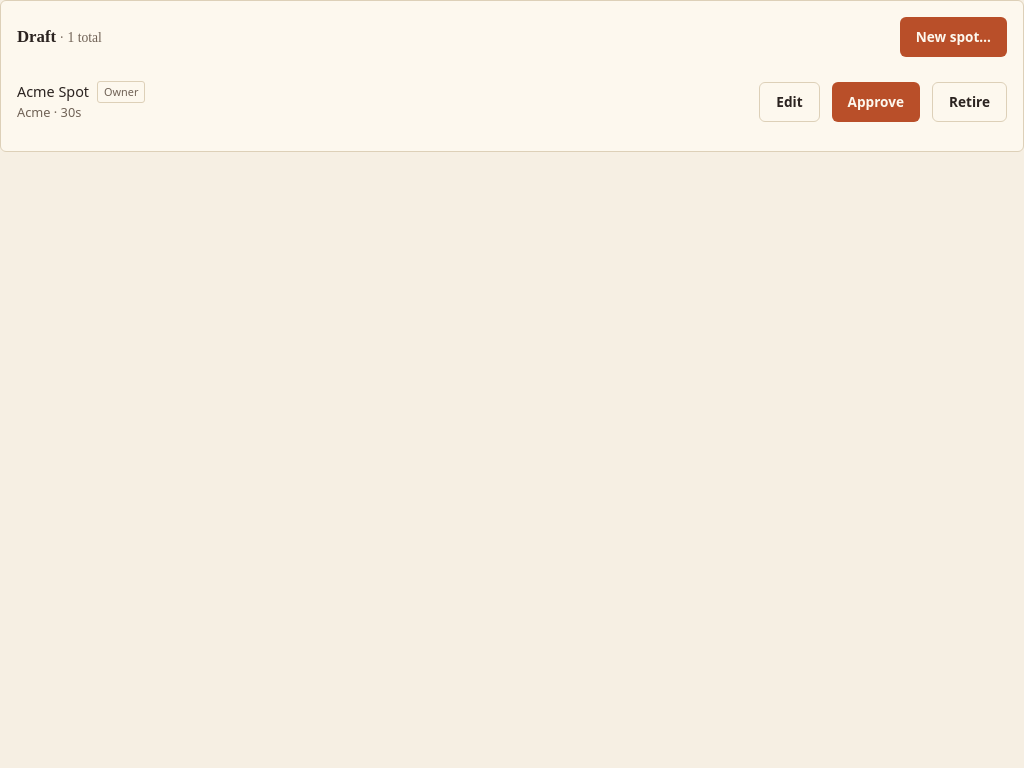
Feature: Approve tells me when the station will render it › Scenario: no window in the response, plain confirmation › toasts exactly 'Approved.' — AC7
Click the button "Approve" at coordinates (876, 102), box x1=832 y1=82 x2=920 y2=122
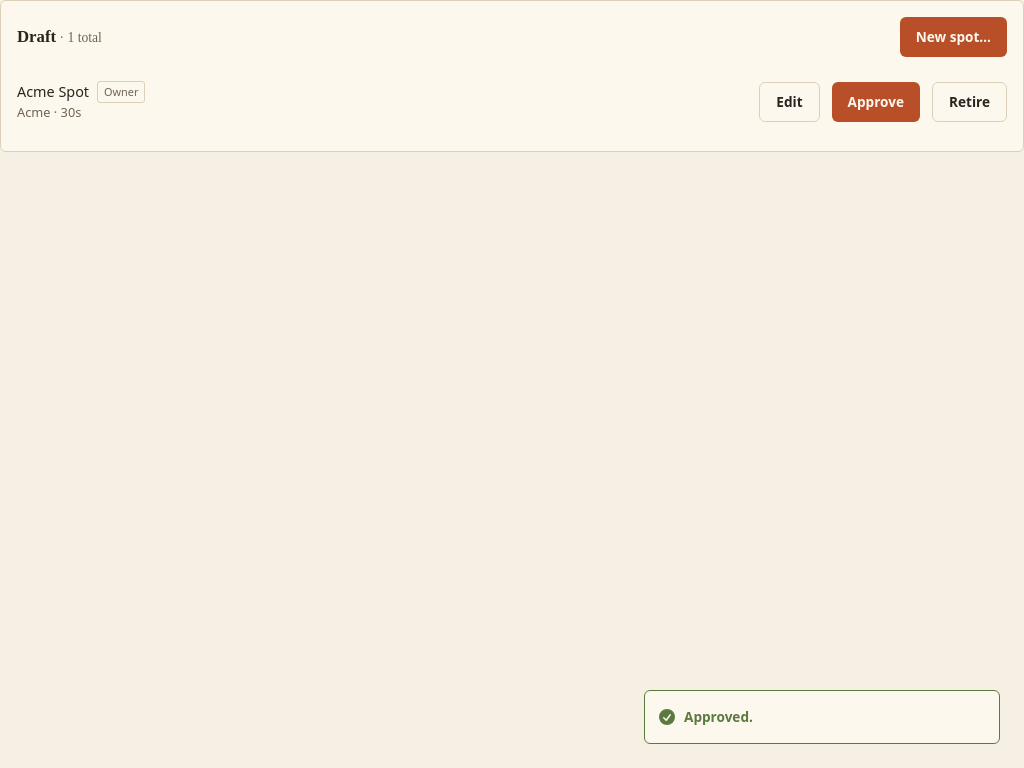
Check: the text "Approved." is shown, box x1=684 y1=707 x2=753 y2=727
